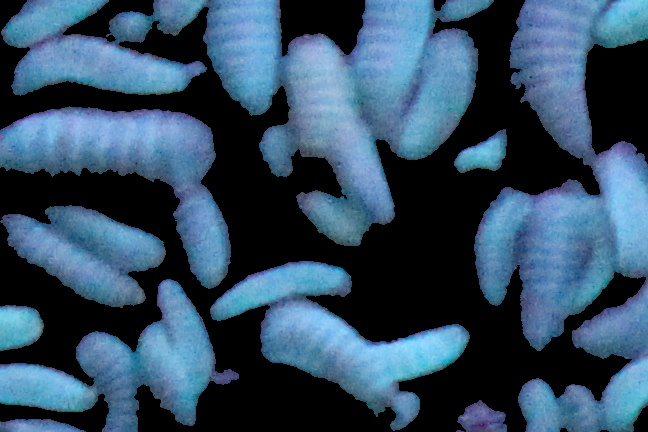larvae: (1, 112, 220, 187), (259, 301, 392, 408), (507, 1, 602, 150), (513, 181, 594, 353), (1, 212, 144, 305), (348, 1, 440, 137), (13, 39, 204, 99), (405, 27, 472, 155), (585, 144, 646, 284), (72, 324, 151, 432), (210, 262, 355, 320), (211, 1, 280, 117), (287, 29, 350, 156), (43, 198, 168, 262), (472, 184, 531, 308), (326, 123, 396, 224), (360, 320, 474, 381), (135, 326, 200, 421), (175, 184, 232, 289), (156, 280, 216, 371), (295, 186, 375, 247), (574, 191, 614, 311), (1, 1, 116, 42), (1, 365, 101, 410), (570, 304, 648, 355), (600, 364, 642, 432), (521, 373, 564, 431), (558, 376, 599, 432), (1, 306, 46, 350)
